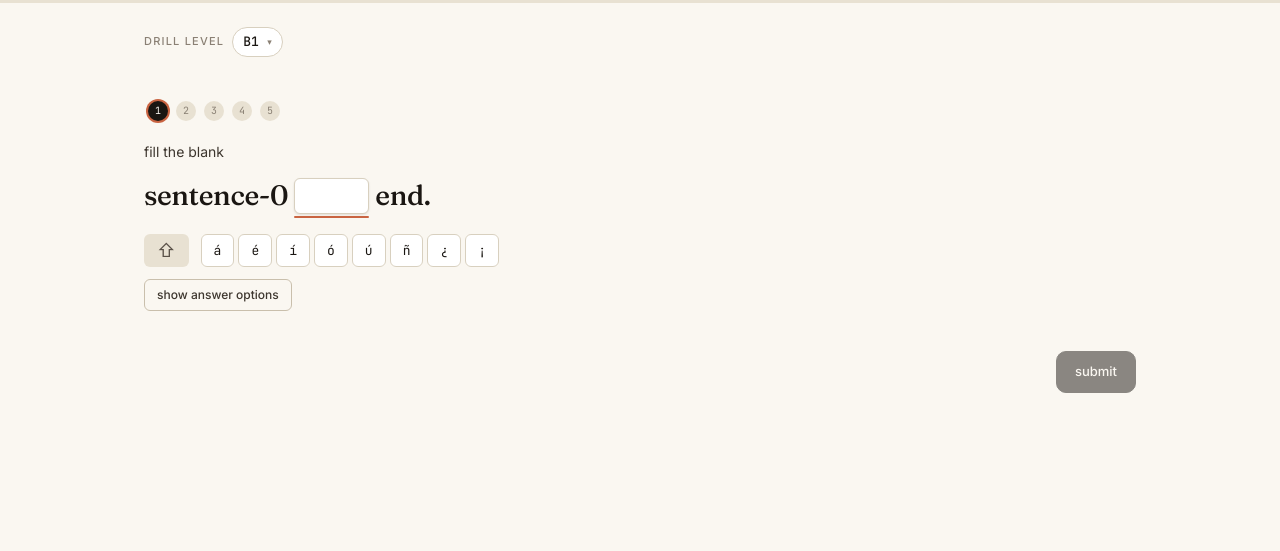
Test: PracticePage › per-item flow › click "next" after evaluation → exercise pane shows manifest item 1; progress reflects 1/5
The width and height of the screenshot is (1280, 551).
Type "middle" into the field.
click(332, 196); type("middle")  # box [294, 178, 370, 214]
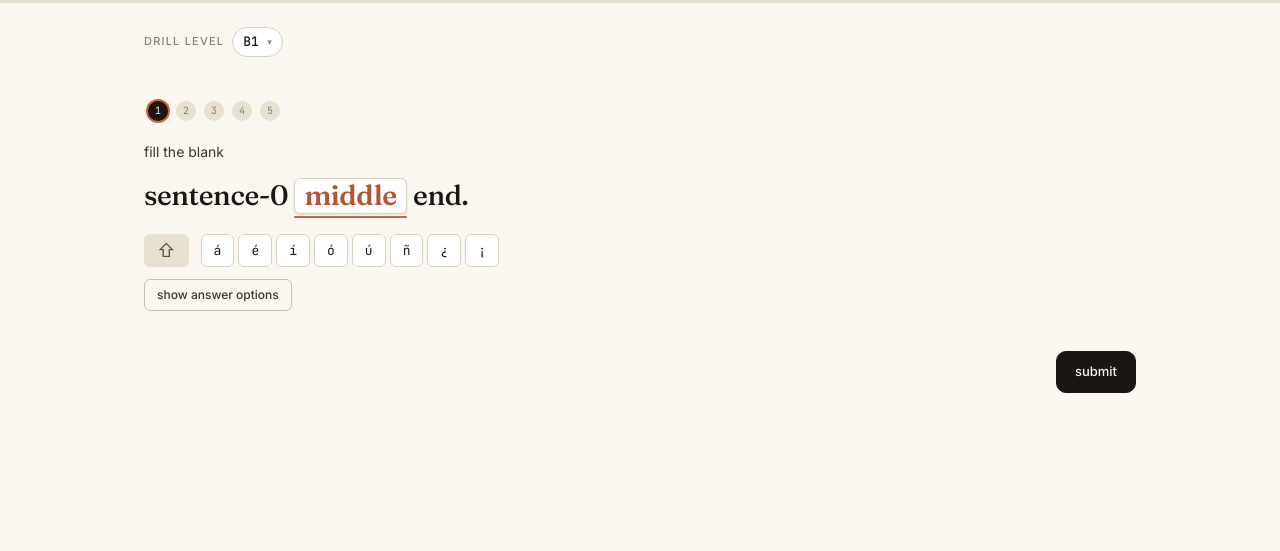
Click the button "submit".
click(1096, 372)  # box [1056, 351, 1136, 393]
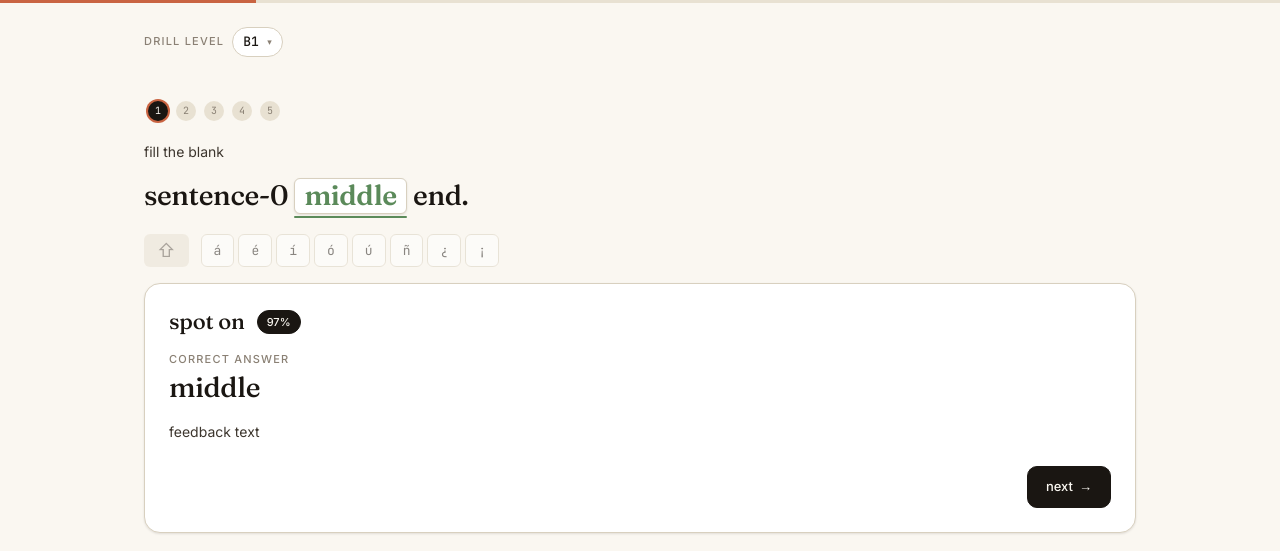
Click the button "next →".
click(1069, 487)  # box [1027, 466, 1111, 508]
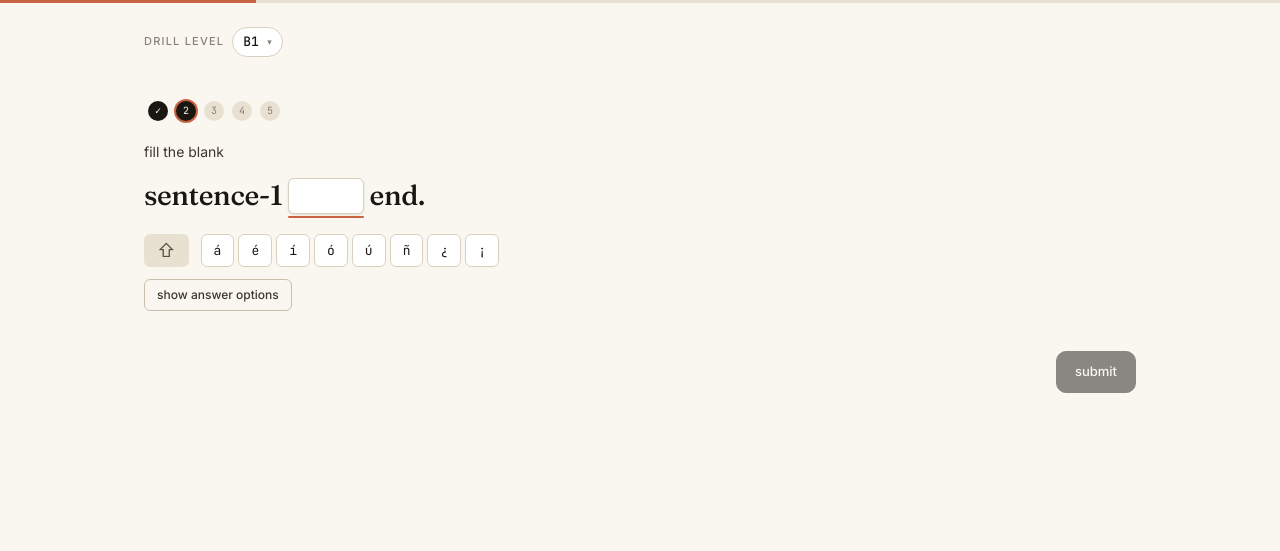
expect the text "sentence-1 end." is shown: met, box [144, 178, 425, 218]
expect the text "sentence-0" is gone: met
